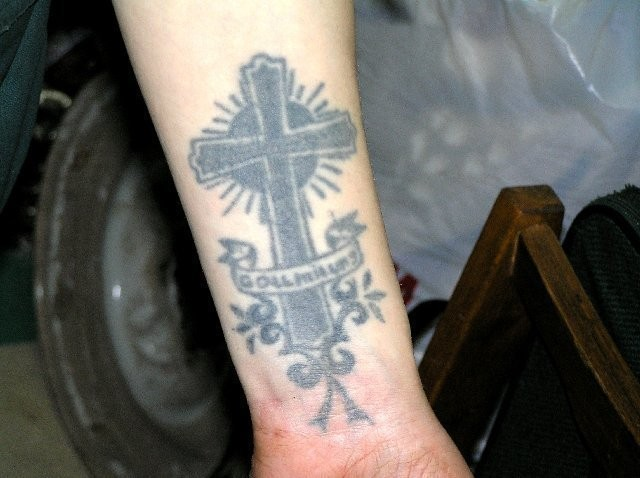tatu9_krest: (179, 43, 405, 433)
